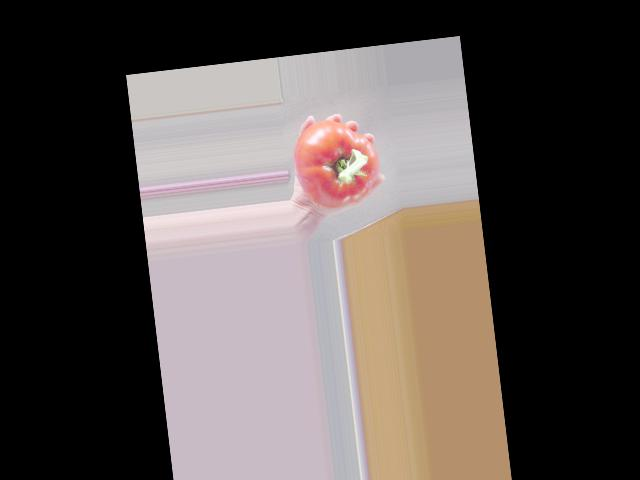tomato: (289, 114, 383, 211)
